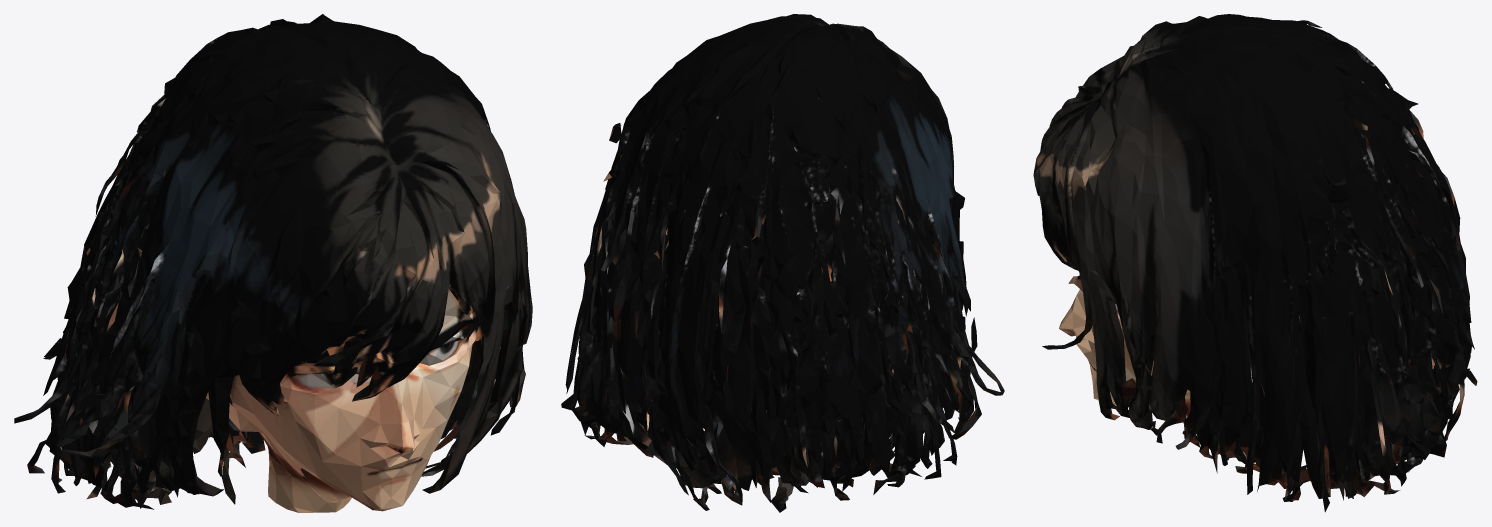
The model's file is side_mcaptain_repaired_atlas.glb.
The picture shows the model from 3 angles, left to right: view 1: azimuth 30°, elevation 25°; view 2: azimuth 150°, elevation 25°; view 3: azimuth 270°, elevation 25°; orthographic projection. The views are drawn at different scales.
Parts seen in each view (by area): view 1: temp_mesh.ply; view 2: temp_mesh.ply; view 3: temp_mesh.ply.
Part boxes in pixels (<box>): temp_mesh.ply: <box>14,14,532,512</box>; temp_mesh.ply: <box>561,14,1004,512</box>; temp_mesh.ply: <box>1033,14,1477,512</box>.
Bounding box in the file's own units: 1.54 × 1.5 × 1.42.
Materials: 1 (1 with a texture image).
